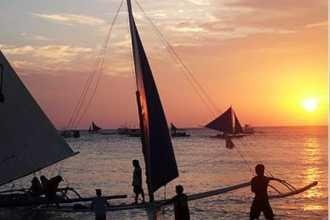fanchuan: (1, 41, 79, 218)
person: (247, 162, 282, 220), (172, 184, 202, 220), (128, 157, 149, 202), (89, 187, 117, 220)
